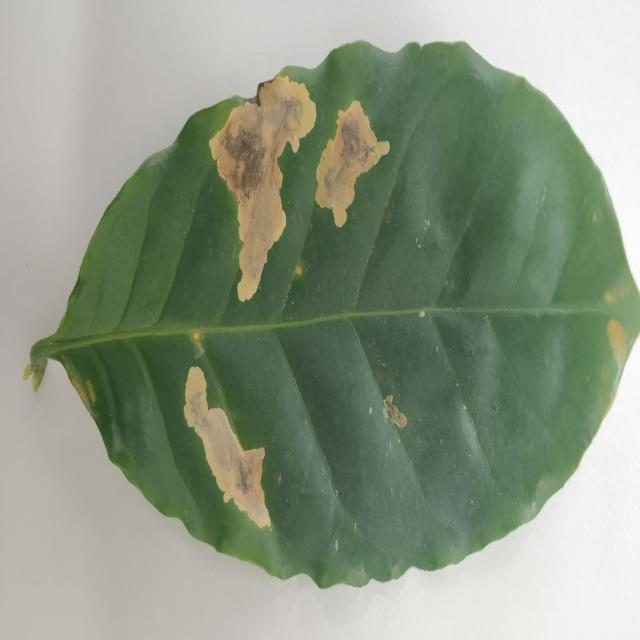Plaga-Minador: (23, 42, 640, 592)
